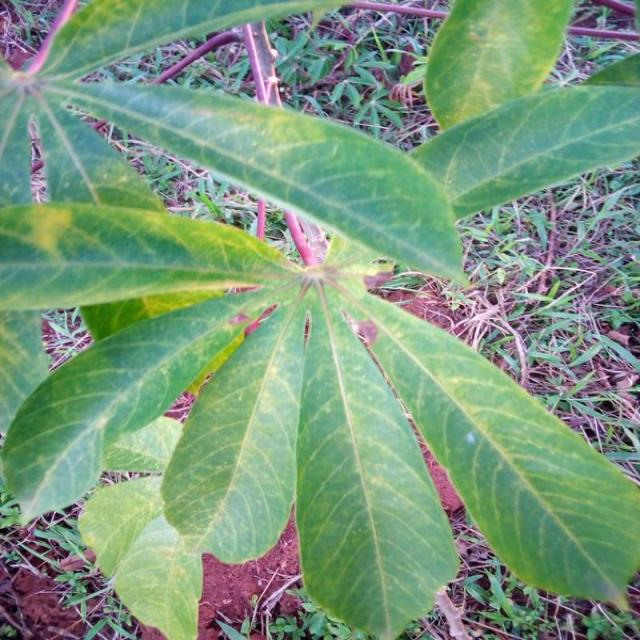cassava leaf: (0, 0, 639, 639), (58, 77, 470, 287), (421, 0, 576, 133)
